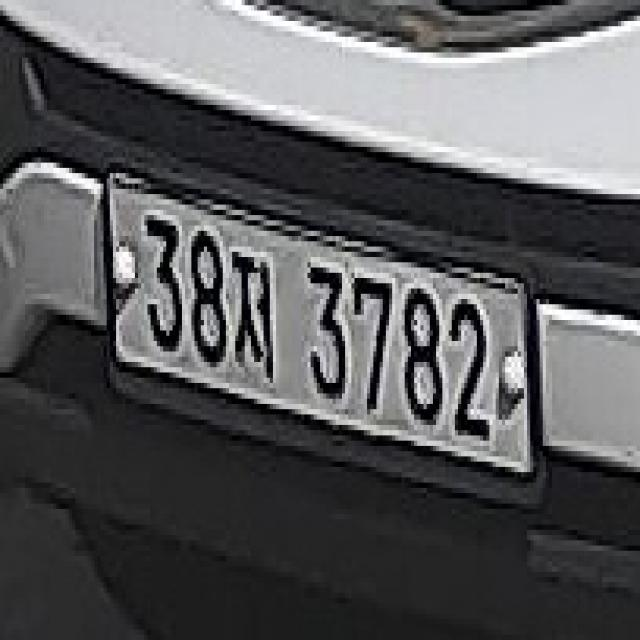2: (448, 294, 489, 441)
3: (141, 210, 188, 357), (301, 257, 348, 399)
7: (352, 268, 392, 420)
8: (398, 283, 446, 430), (185, 225, 229, 372)
jeo: (229, 247, 276, 383)
license_plate: (104, 162, 536, 488)
